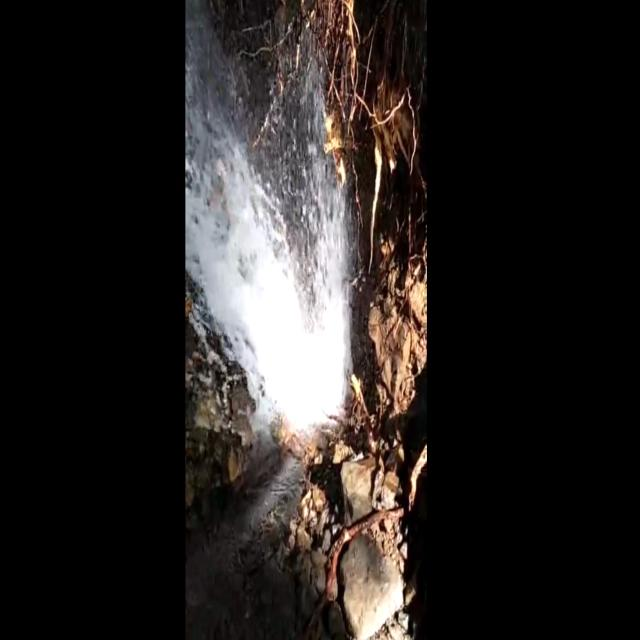leak: (186, 2, 351, 430)
